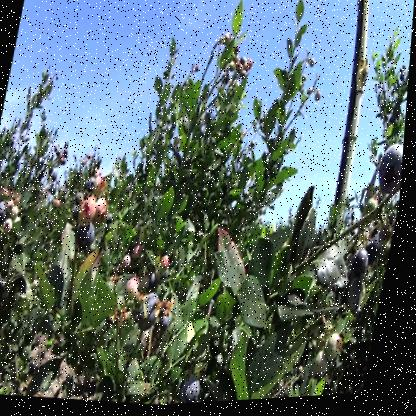intermediate: (83, 199, 114, 230), (93, 173, 112, 199), (164, 256, 176, 272)
mature: (379, 148, 406, 202), (143, 295, 167, 328), (184, 376, 210, 406), (353, 253, 376, 285), (80, 226, 101, 252), (370, 244, 387, 269), (75, 192, 88, 220), (162, 313, 177, 337), (1, 202, 12, 225)
young: (316, 355, 337, 385), (331, 338, 351, 368), (128, 279, 147, 303), (10, 199, 24, 217), (125, 253, 137, 271), (5, 221, 16, 238)
